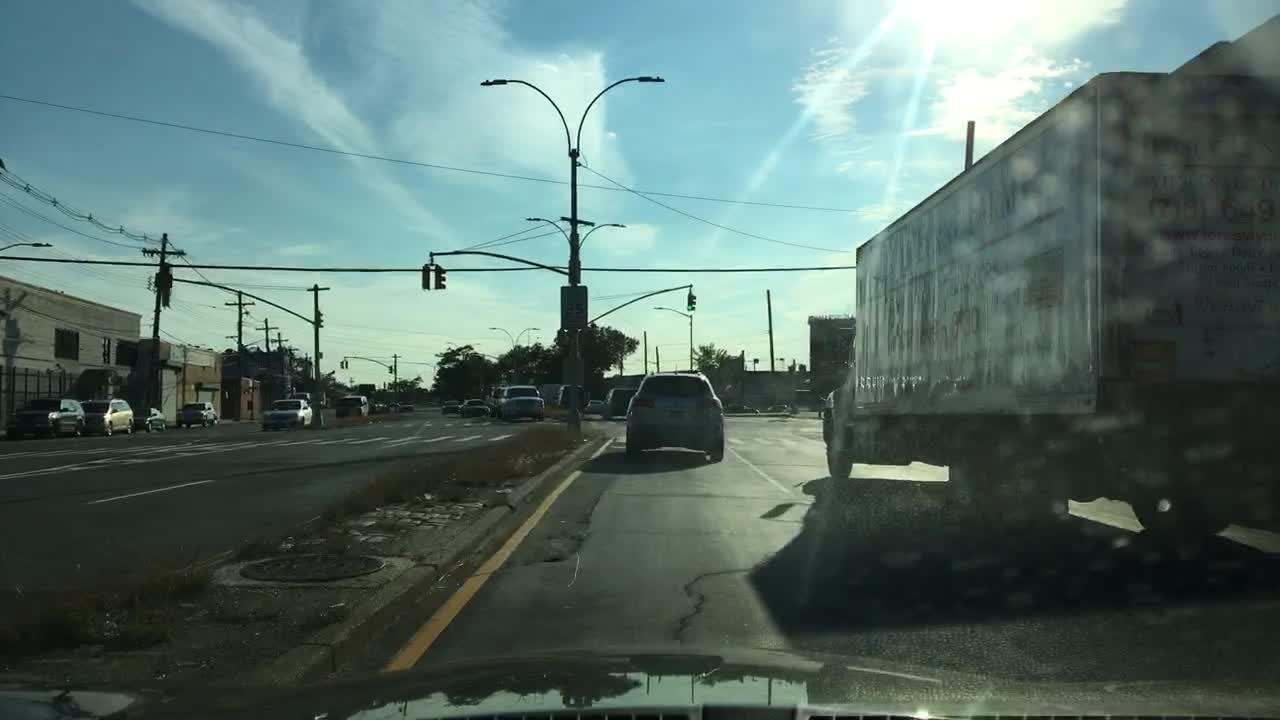car: (622, 370, 726, 461), (6, 395, 86, 436), (79, 398, 137, 435), (259, 396, 313, 430), (499, 383, 545, 421), (174, 401, 218, 426), (603, 388, 638, 417), (333, 394, 369, 420), (133, 406, 167, 430), (553, 385, 584, 406), (461, 398, 491, 415), (584, 398, 608, 414), (489, 385, 501, 416), (766, 403, 795, 415), (456, 398, 474, 414), (440, 400, 459, 414), (726, 403, 757, 411), (385, 399, 399, 413), (399, 400, 414, 413), (373, 403, 386, 411)
traffic light: (434, 263, 446, 290), (421, 263, 432, 289), (686, 293, 698, 313), (316, 309, 324, 326), (388, 361, 394, 373), (343, 356, 349, 368), (339, 355, 344, 369)
traffic sign: (558, 284, 587, 324)
truck: (821, 69, 1275, 536)
